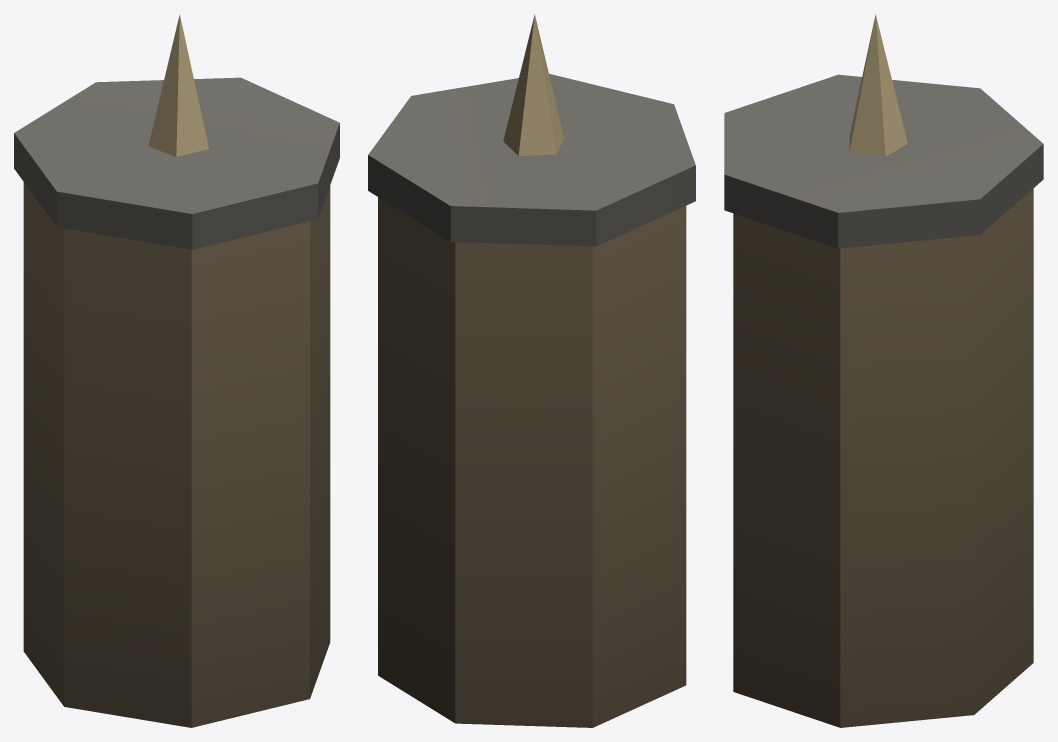
File: ph_prop_grave_candle.glb
3 views of the same model, side by side, from view 1: azimuth 30°, elevation 25°; view 2: azimuth 150°, elevation 25°; view 3: azimuth 270°, elevation 25° (orthographic).
Parts seen in each view (by area): view 1: ph_prop_grave_candle; view 2: ph_prop_grave_candle; view 3: ph_prop_grave_candle.
Boxes of the visible parts, box(x1,y1,x2,y2) form: ph_prop_grave_candle: box(14, 14, 339, 727); ph_prop_grave_candle: box(368, 14, 695, 727); ph_prop_grave_candle: box(724, 14, 1043, 727).
Size of the model in its own units: 0.0663 by 0.145 by 0.0646.
